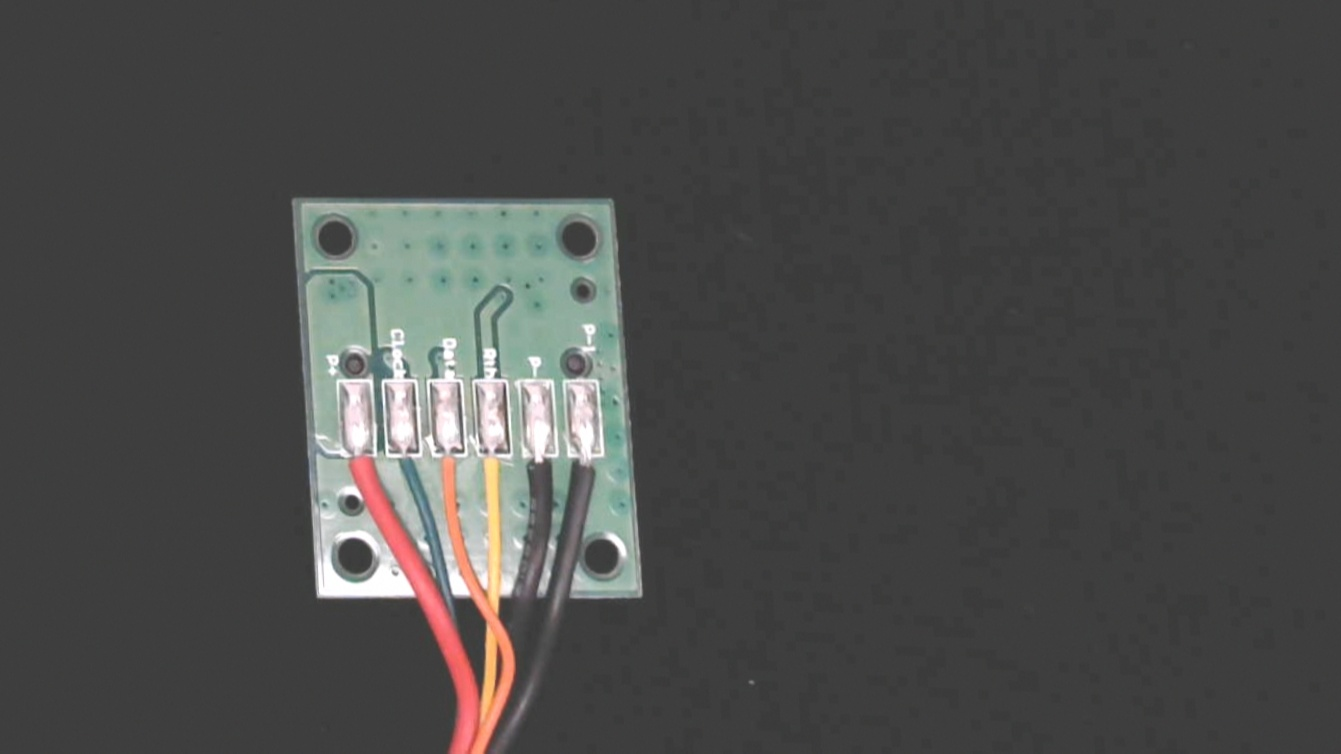Black: (517, 434, 561, 525)
Black1: (565, 438, 609, 521)
Green: (385, 432, 426, 501)
Orange: (430, 434, 471, 512)
Red: (341, 427, 384, 513)
Yellow: (471, 435, 515, 527)
